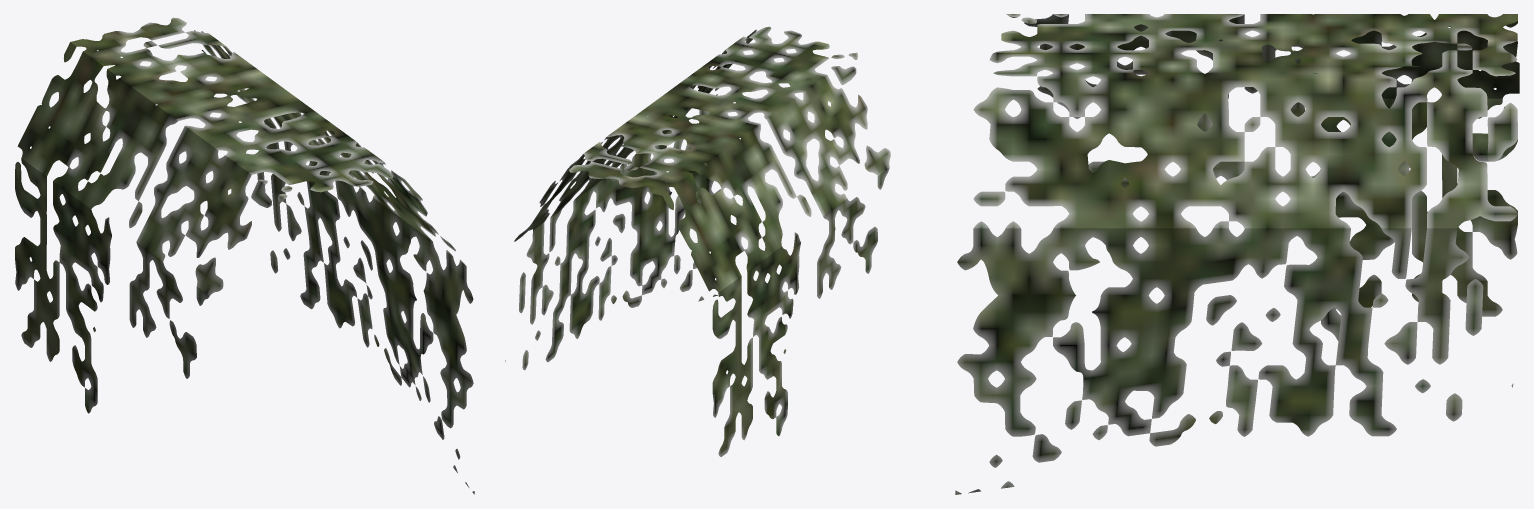
File: MESH_PIPE_Foliage3.fbx
3 renders of one model, left to right at view 1: azimuth 30°, elevation 25°; view 2: azimuth 150°, elevation 25°; view 3: azimuth 270°, elevation 25°, orthographic. The views are drawn at different scales.
Parts seen in each view (by area): view 1: MESH_PIPE_Foliage3; view 2: MESH_PIPE_Foliage3; view 3: MESH_PIPE_Foliage3.
Boxes of the visible parts, x1,y1,x2,y2 form: MESH_PIPE_Foliage3: (15,17,474,494); MESH_PIPE_Foliage3: (505,26,890,456); MESH_PIPE_Foliage3: (955,14,1519,494).
Bounding box in the file's own units: 0.6614 × 0.8505 × 1.14.
